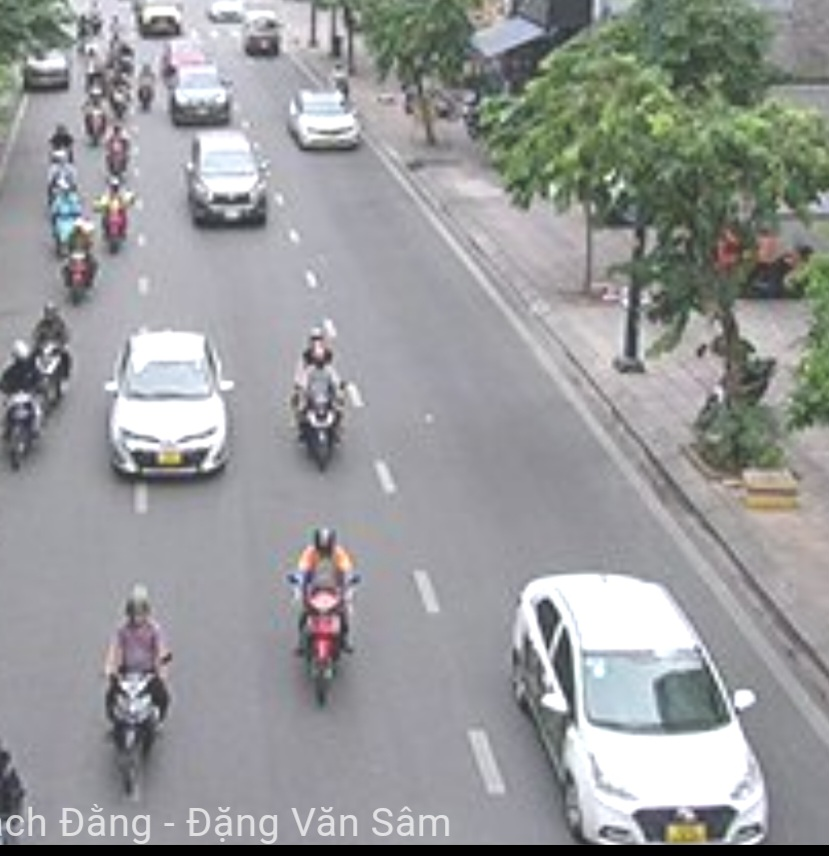car: (513, 570, 772, 844), (112, 330, 227, 478), (190, 133, 267, 227), (289, 88, 361, 151), (171, 70, 232, 123)
